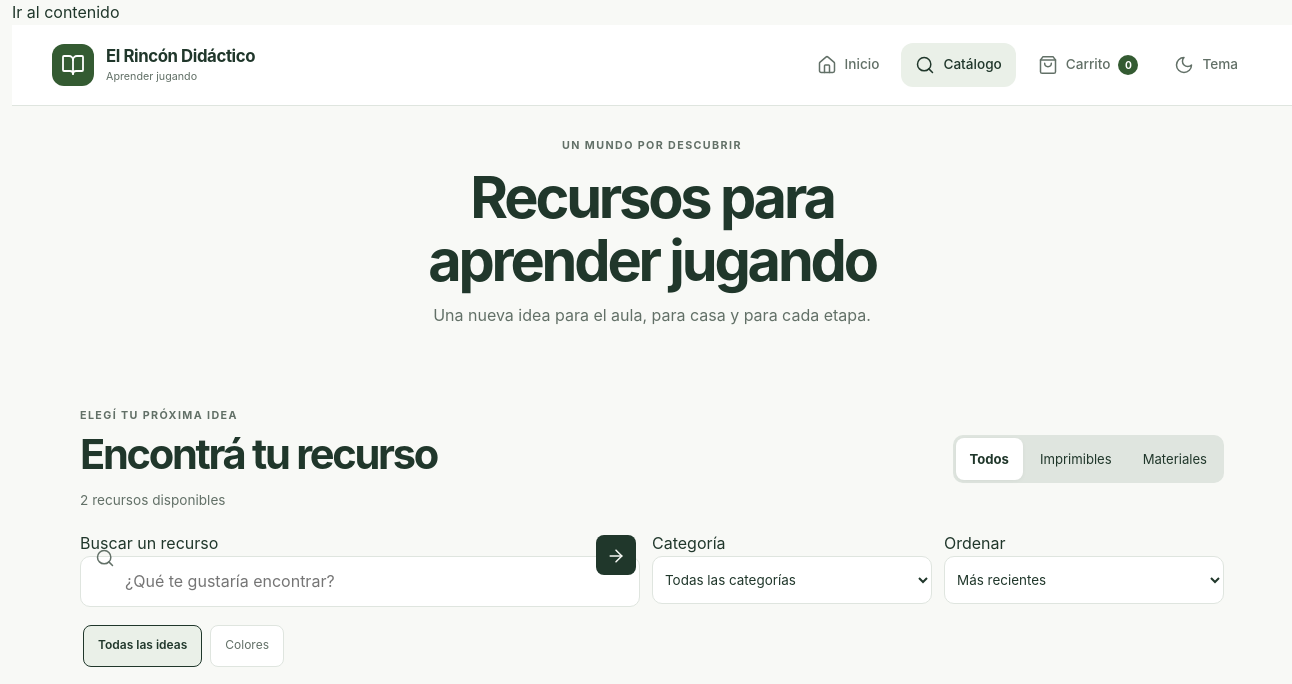
catalog category shortcuts › filters by category and clears both filters and the search field
The width and height of the screenshot is (1292, 684).
Click the button "Colores" at (247, 646), box [210,625,284,667]
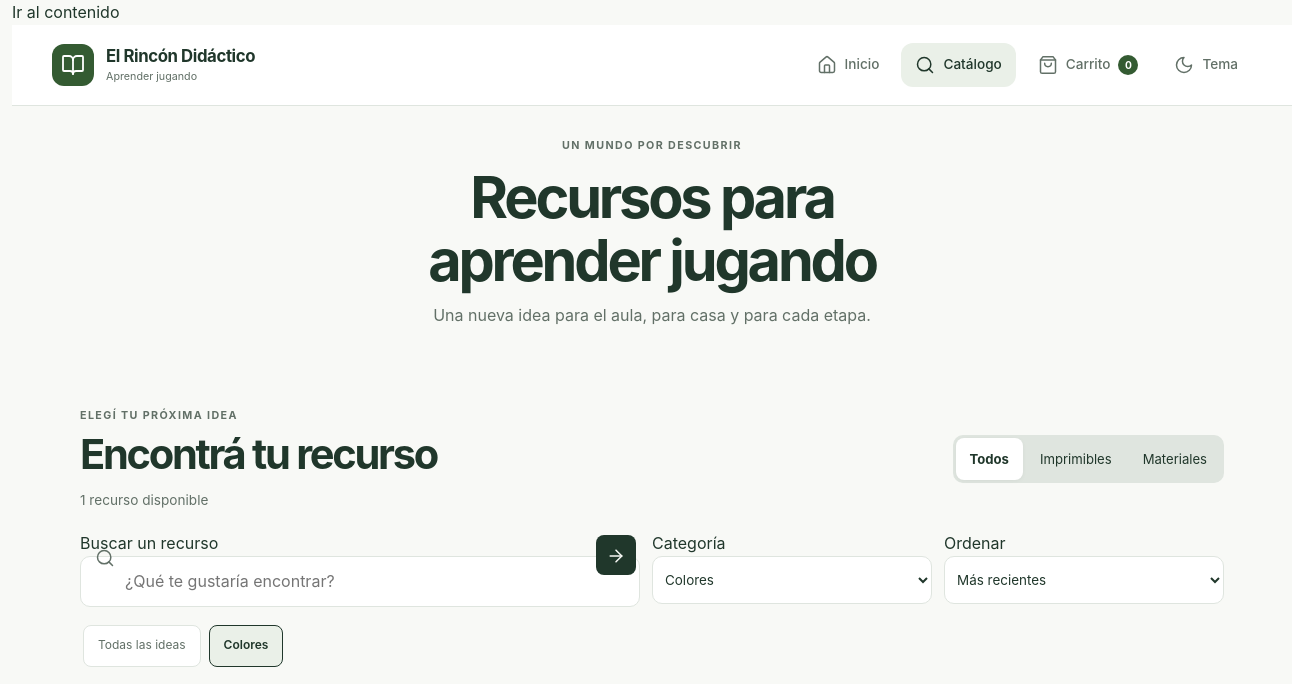
Type "otra idea" into the search field with placeholder "¿Qué te gustaría encontrar?" at (360, 581), box [80,556,640,607]
(page scrolled)
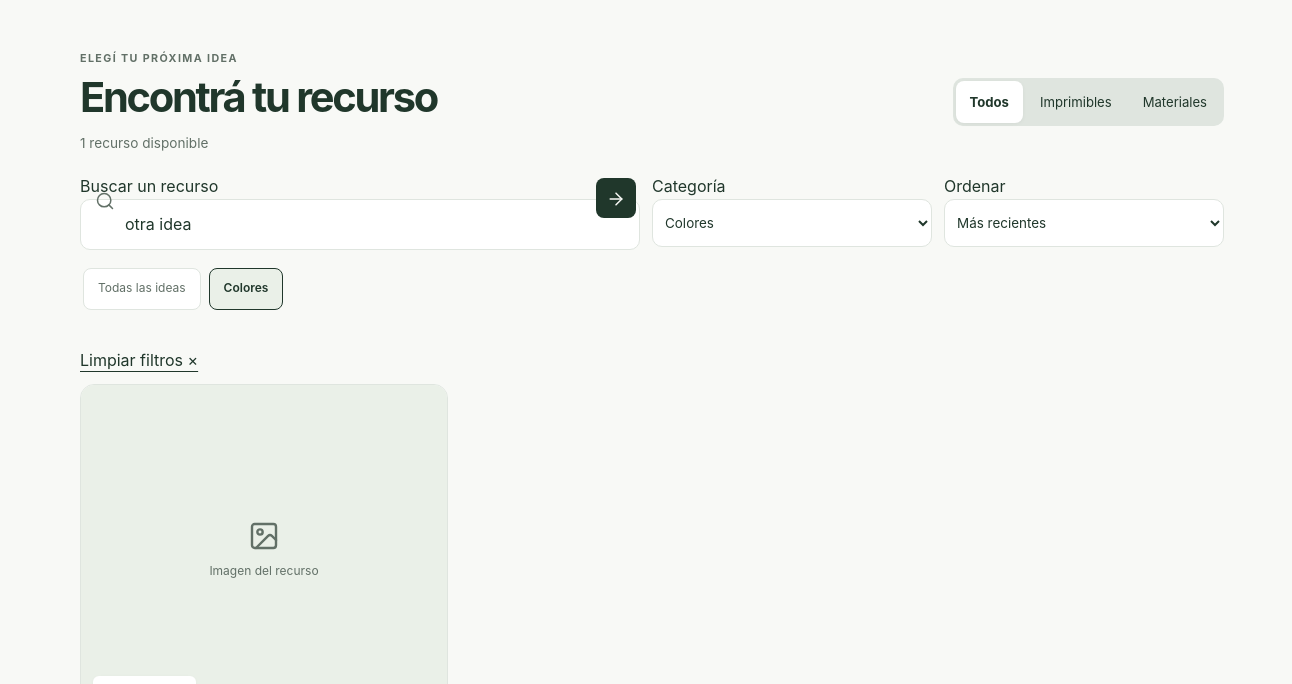
Click the button "Limpiar filtros ×" at (139, 361), box [80,338,198,384]
(page scrolled)
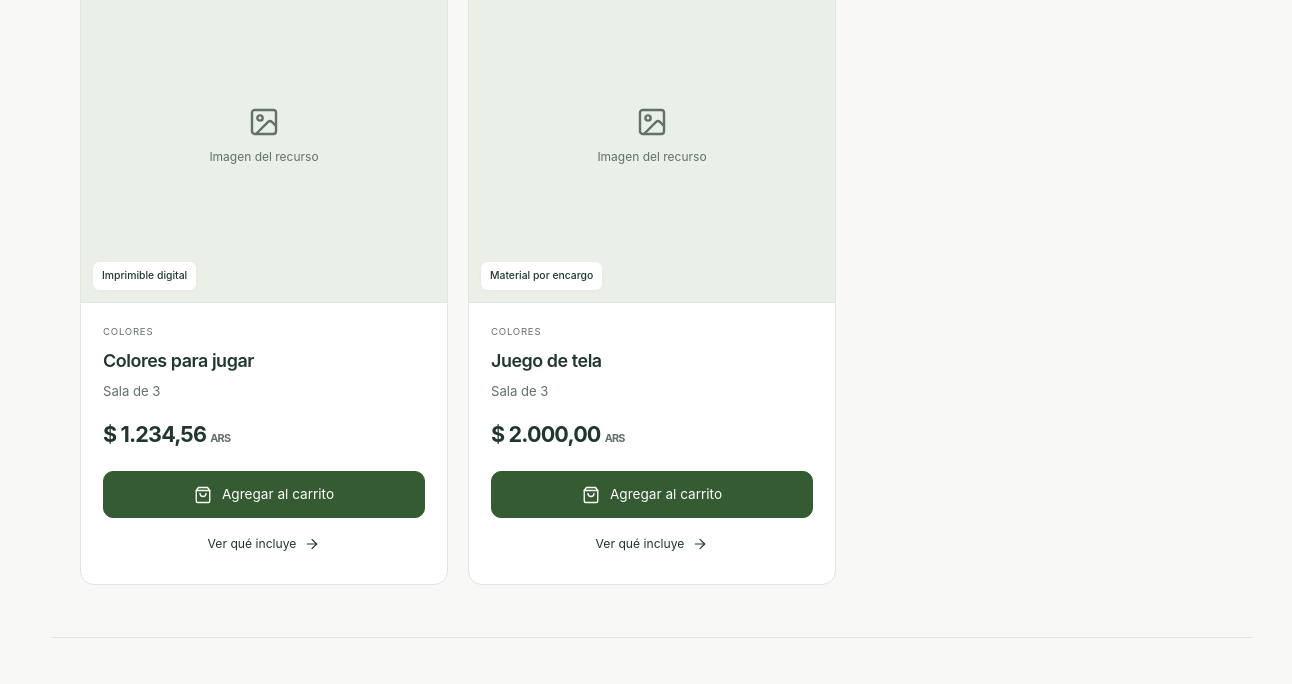
Now the heading "Juego de tela" is shown, box [491,350,602,371]
